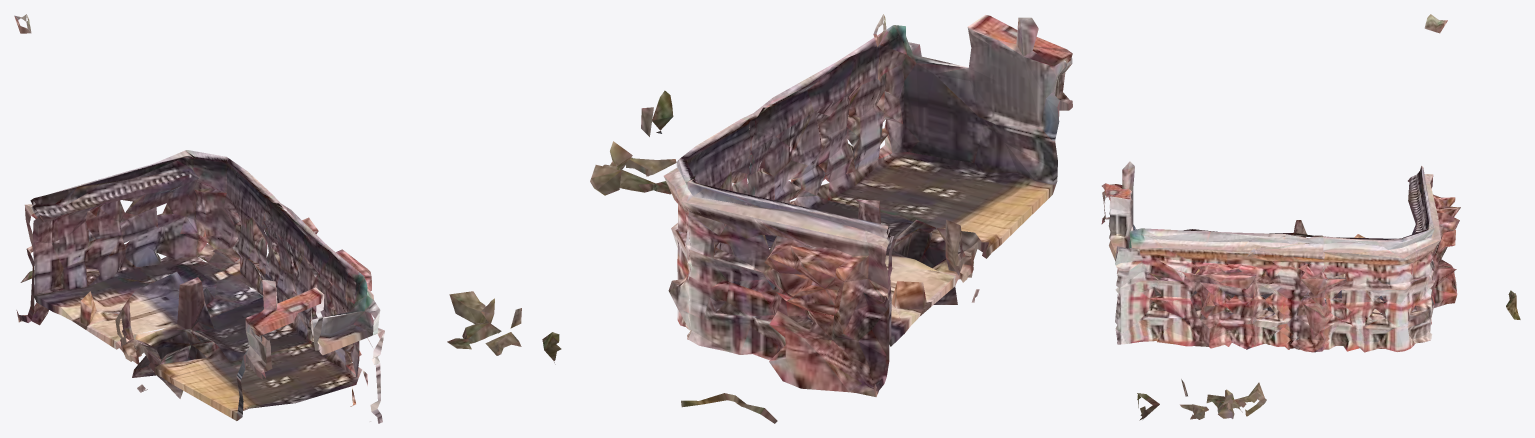
3 renders of one model, left to right at view 1: azimuth 30°, elevation 25°; view 2: azimuth 150°, elevation 25°; view 3: azimuth 270°, elevation 25°, orthographic. The views are drawn at different scales.
Parts seen in each view (by area): view 1: Mesh_0; view 2: Mesh_0; view 3: Mesh_0.
Part boxes in pixels (x1,y1,x2,y2): Mesh_0: [14, 14, 561, 423]; Mesh_0: [590, 14, 1072, 423]; Mesh_0: [1101, 14, 1520, 420].
Bounding box in the file's own units: 33.11 × 27.49 × 39.52.
1 material, 1 textured.
